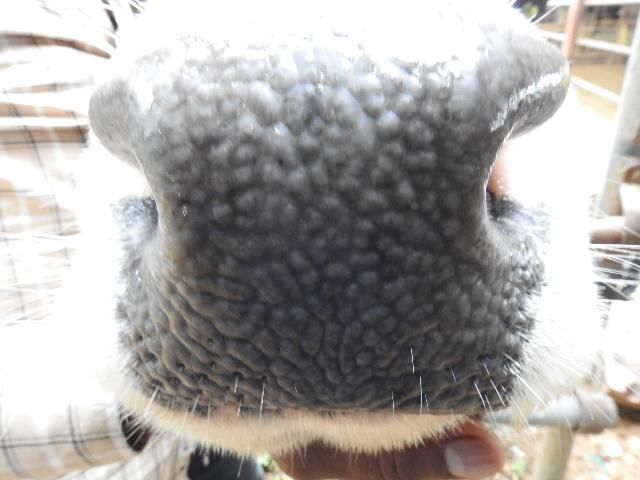Muzzle: (118, 52, 512, 412)
